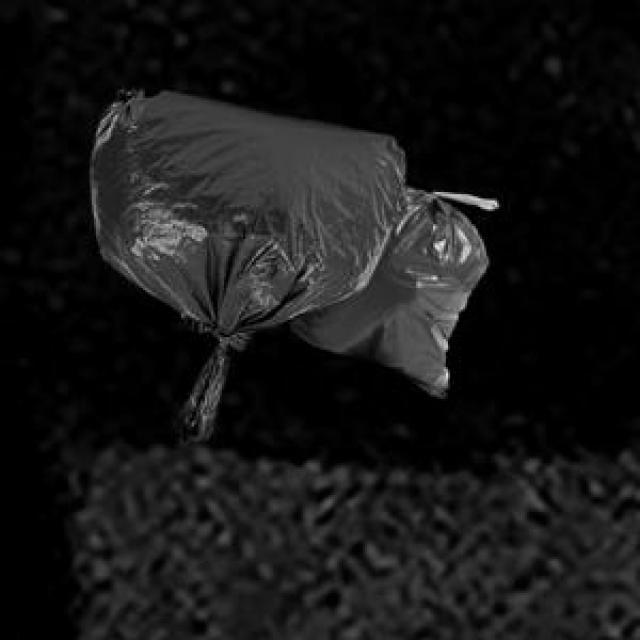miscellaneous trash: (88, 85, 401, 440), (286, 184, 495, 393)
